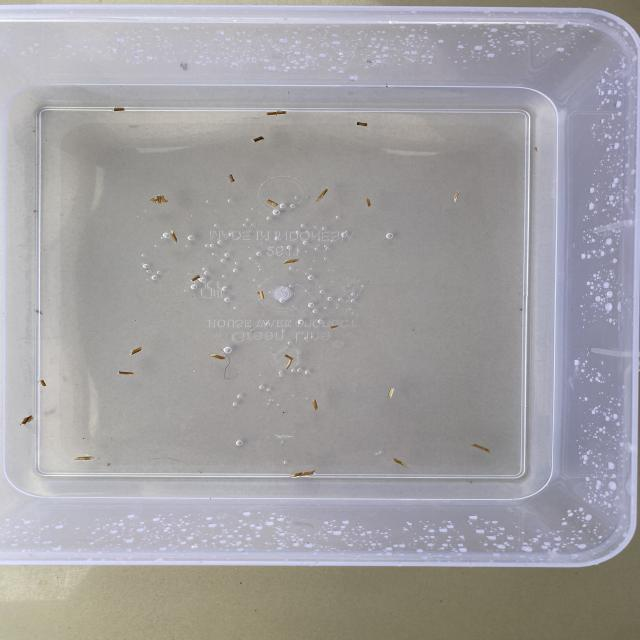Wereng: (385, 455, 413, 470), (314, 185, 332, 203), (465, 443, 491, 455), (116, 367, 138, 381), (384, 384, 399, 402), (306, 398, 326, 411), (166, 229, 184, 243), (153, 193, 174, 204), (289, 472, 317, 480), (260, 198, 282, 208), (208, 352, 230, 362), (263, 110, 294, 117), (285, 352, 295, 373), (190, 274, 207, 286), (73, 456, 97, 464), (358, 117, 372, 130), (127, 347, 148, 355), (22, 414, 36, 426), (225, 169, 236, 184), (282, 258, 300, 267), (111, 104, 127, 113), (257, 290, 268, 302), (248, 135, 264, 143), (363, 196, 372, 209), (36, 379, 48, 388), (332, 325, 341, 332), (455, 190, 461, 200)
